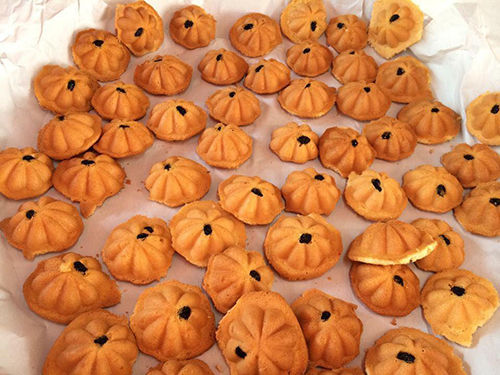kanomkai: (208, 284, 318, 375), (19, 247, 124, 329), (131, 276, 221, 360), (262, 208, 346, 285), (33, 103, 107, 164), (341, 164, 409, 225), (395, 93, 468, 149), (145, 154, 217, 208), (142, 92, 211, 146), (131, 43, 198, 98), (274, 69, 342, 122), (228, 8, 289, 62), (204, 79, 269, 128), (271, 120, 322, 167)
